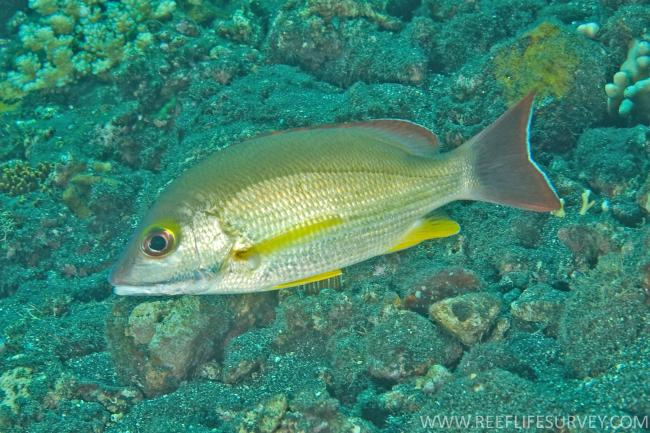fish: (107, 86, 567, 295)
